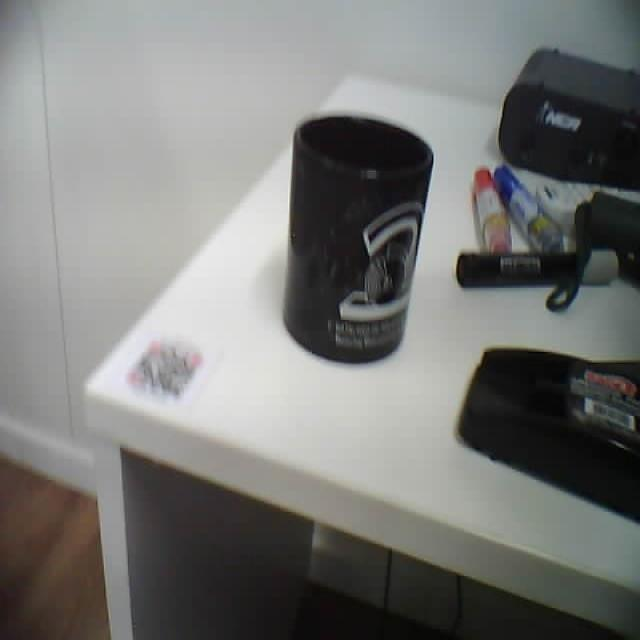caneca: (282, 115, 432, 361)
